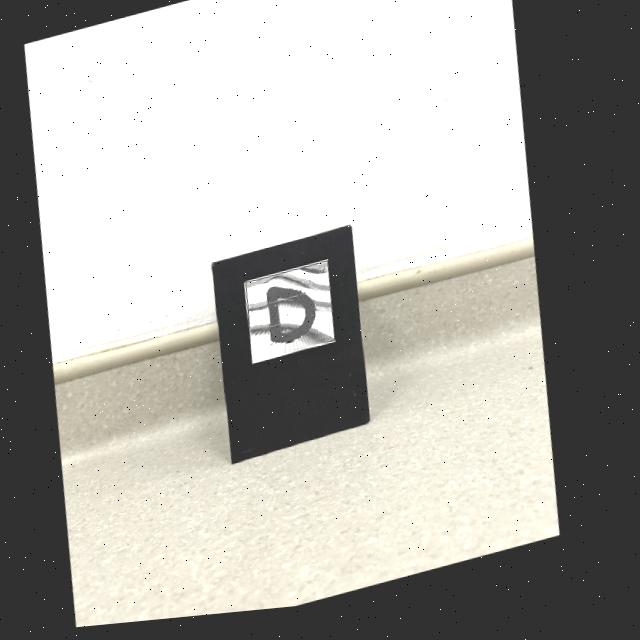D: (273, 293, 322, 349)
